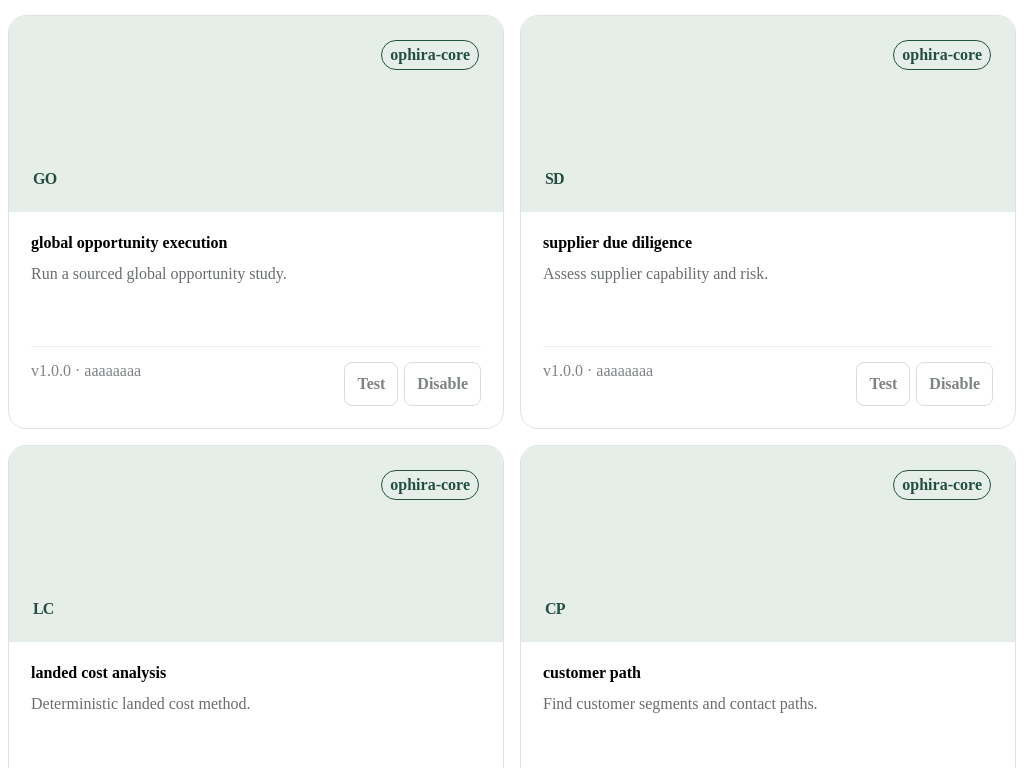
SkillsPage › toggles a skill through the backend enable endpoint
(page scrolled)
Expected: the heading "supplier due diligence" is shown, [543,234,692,251]
What coordinates should you click on to do the following:
click the button "Disable" below "Assess supplier capability and risk."
I would click on:
 (955, 384)
Its box is [916,362,993,406].
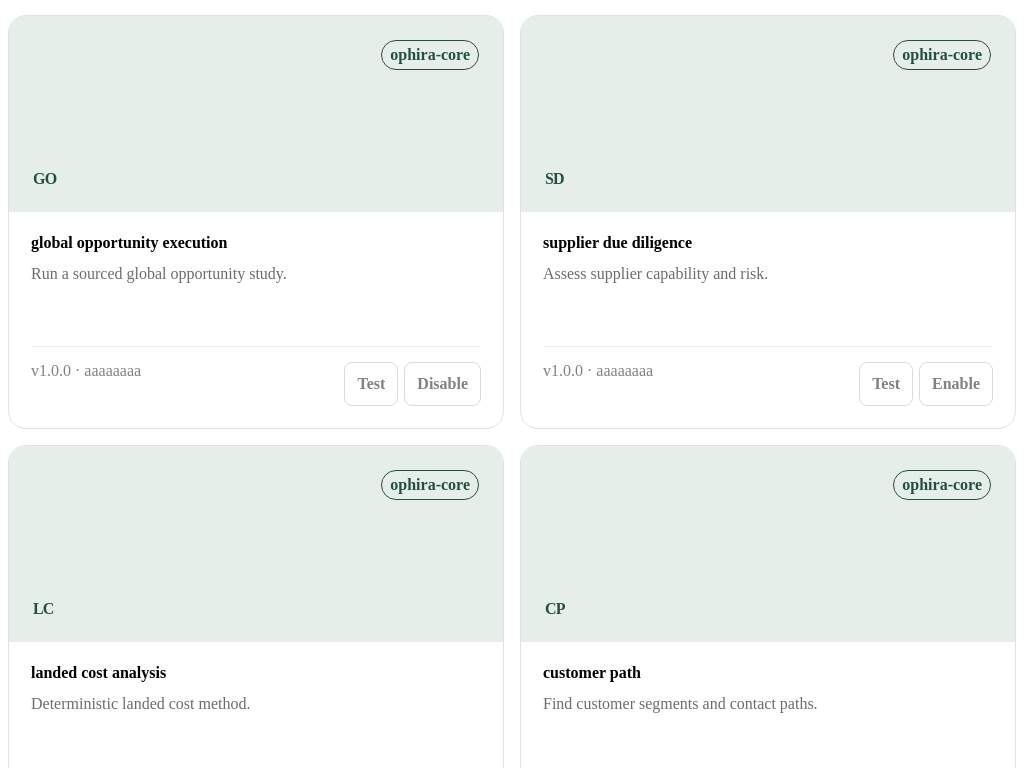
Now the button "Enable" is shown, box [919,362,993,406]
